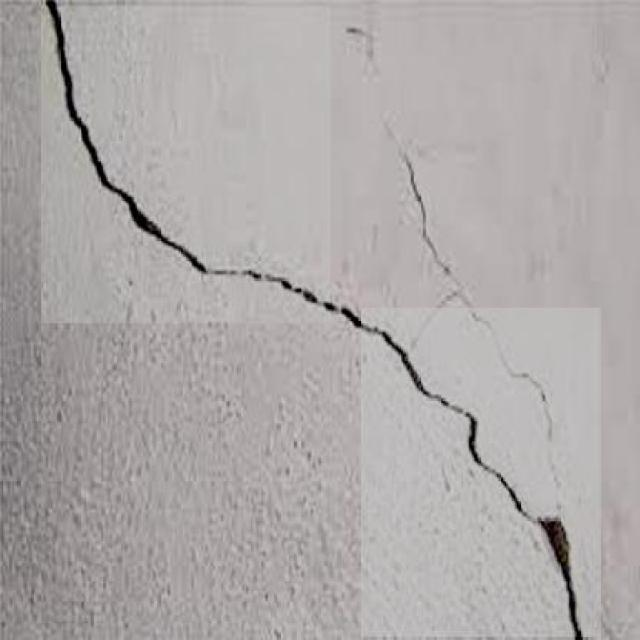Crack: (32, 8, 370, 332), (298, 335, 526, 603), (403, 147, 465, 309), (530, 516, 604, 640), (436, 320, 560, 376)
